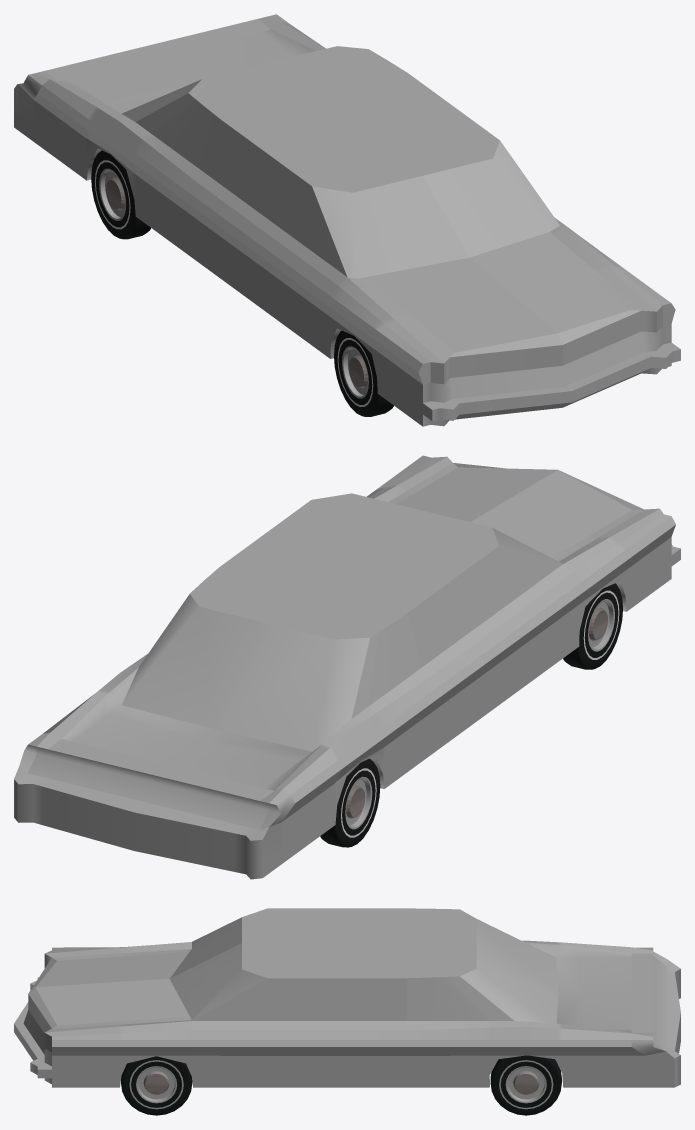
The model's file is CarForNow.fbx.
3 renders of one model, top to bottom at view 1: azimuth 30°, elevation 25°; view 2: azimuth 150°, elevation 25°; view 3: azimuth 270°, elevation 25°, orthographic. The views are drawn at different scales.
Visible parts, largest first — view 1: pCube5; view 2: pCube5; view 3: pCube5.
Boxes of the visible parts, x1,y1,x2,y2 form: pCube5: (14,14,680,426); pCube5: (14,455,680,879); pCube5: (14,908,680,1115).
Size of the model in its own units: 13.26 by 8.28 by 39.12.
